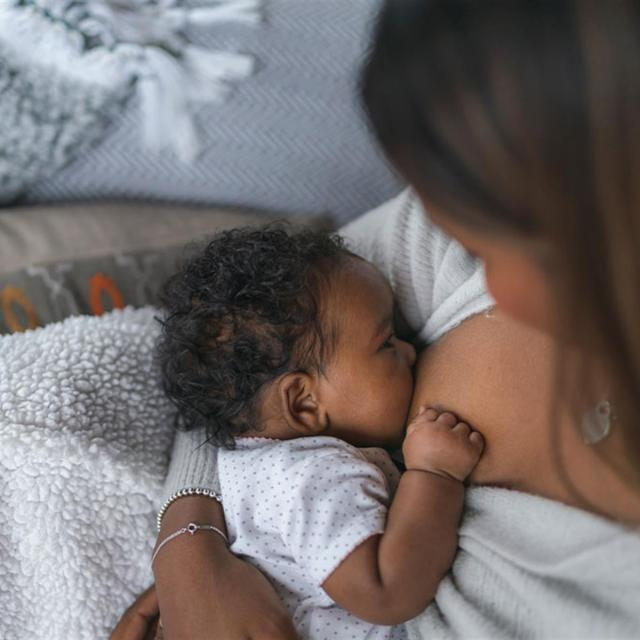non-dog: (149, 3, 640, 640), (154, 223, 487, 640)
